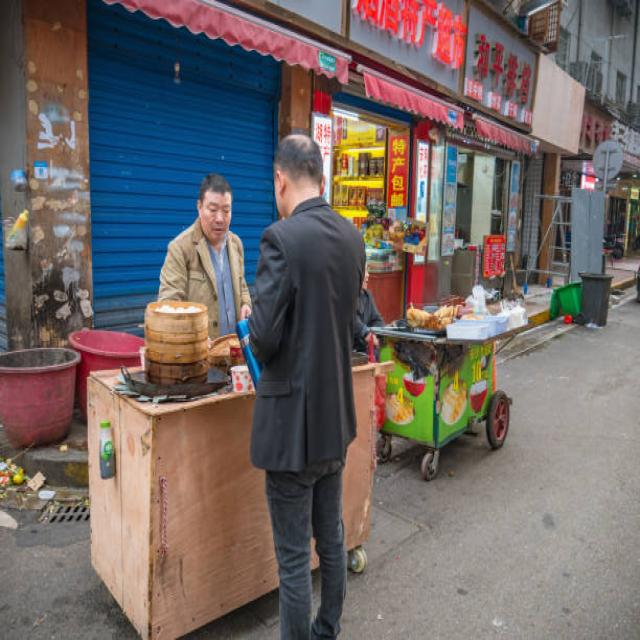Emperan: (83, 269, 388, 636), (361, 279, 527, 488)
